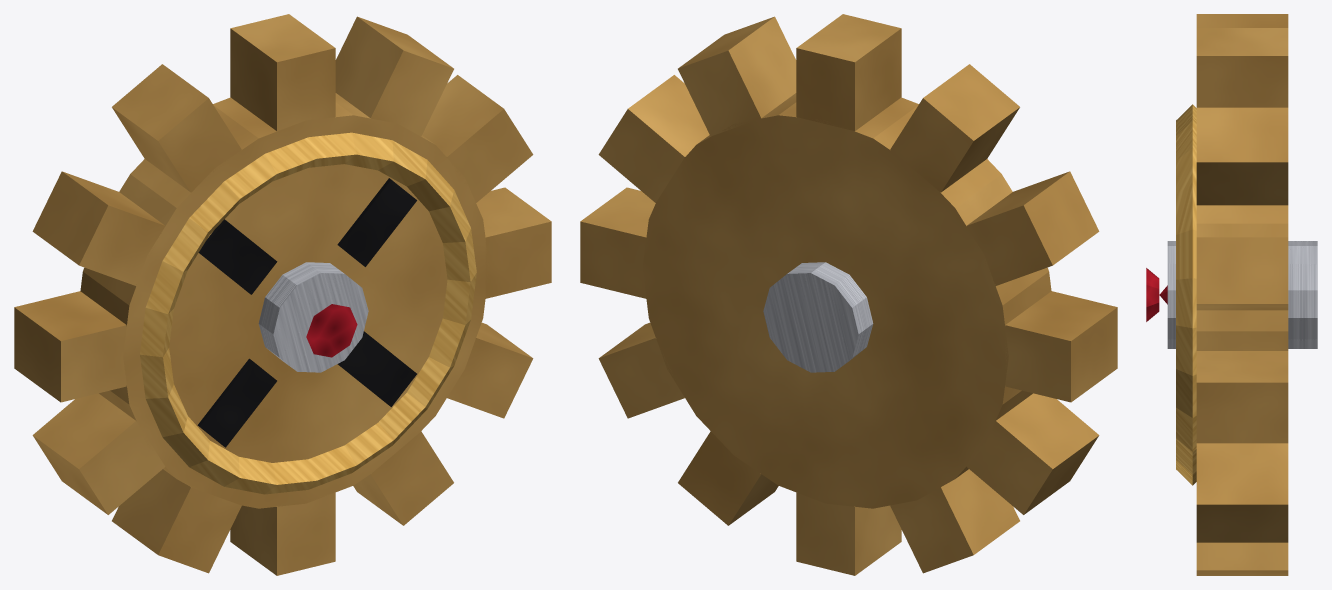
Rendered from mdl_pieza_engranaje.fbx.
3 renders of one model, left to right at view 1: azimuth 30°, elevation 25°; view 2: azimuth 150°, elevation 25°; view 3: azimuth 270°, elevation 25°, orthographic.
Visible parts, largest first — view 1: metal_laton, metal_oro_cepillado, esmalte_negro, metal_acero, gema_rubi; view 2: metal_laton, metal_acero; view 3: metal_laton, metal_oro_cepillado, metal_acero, gema_rubi.
Part boxes in pixels (<box>): metal_laton: <box>14,14,551,575</box>; metal_oro_cepillado: <box>140,132,476,494</box>; esmalte_negro: <box>197,178,416,447</box>; metal_acero: <box>258,262,368,372</box>; gema_rubi: <box>306,304,357,357</box>; metal_laton: <box>580,14,1117,575</box>; metal_acero: <box>763,262,873,372</box>; metal_laton: <box>1196,14,1288,575</box>; metal_oro_cepillado: <box>1176,104,1196,485</box>; metal_acero: <box>1167,241,1317,348</box>; gema_rubi: <box>1146,268,1167,321</box>.
Size of the model in its own units: 134 by 134 by 41.12.
